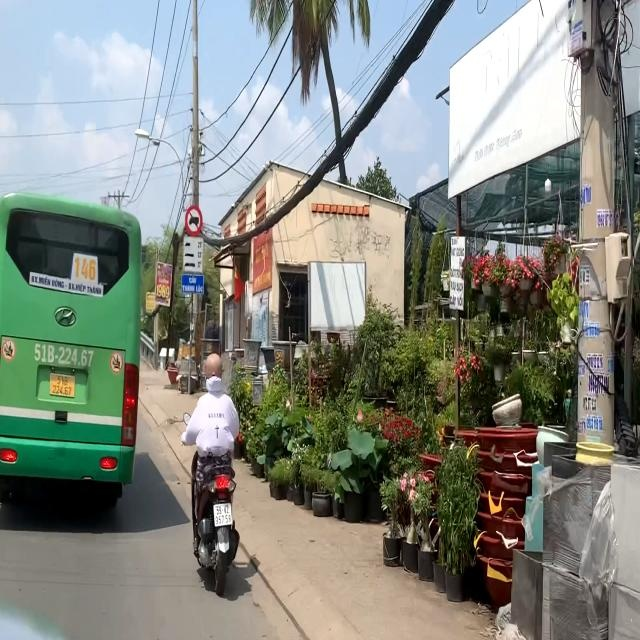bien_cam: (185, 204, 202, 236)
